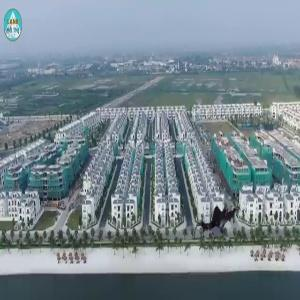drone: (192, 189, 246, 243)
